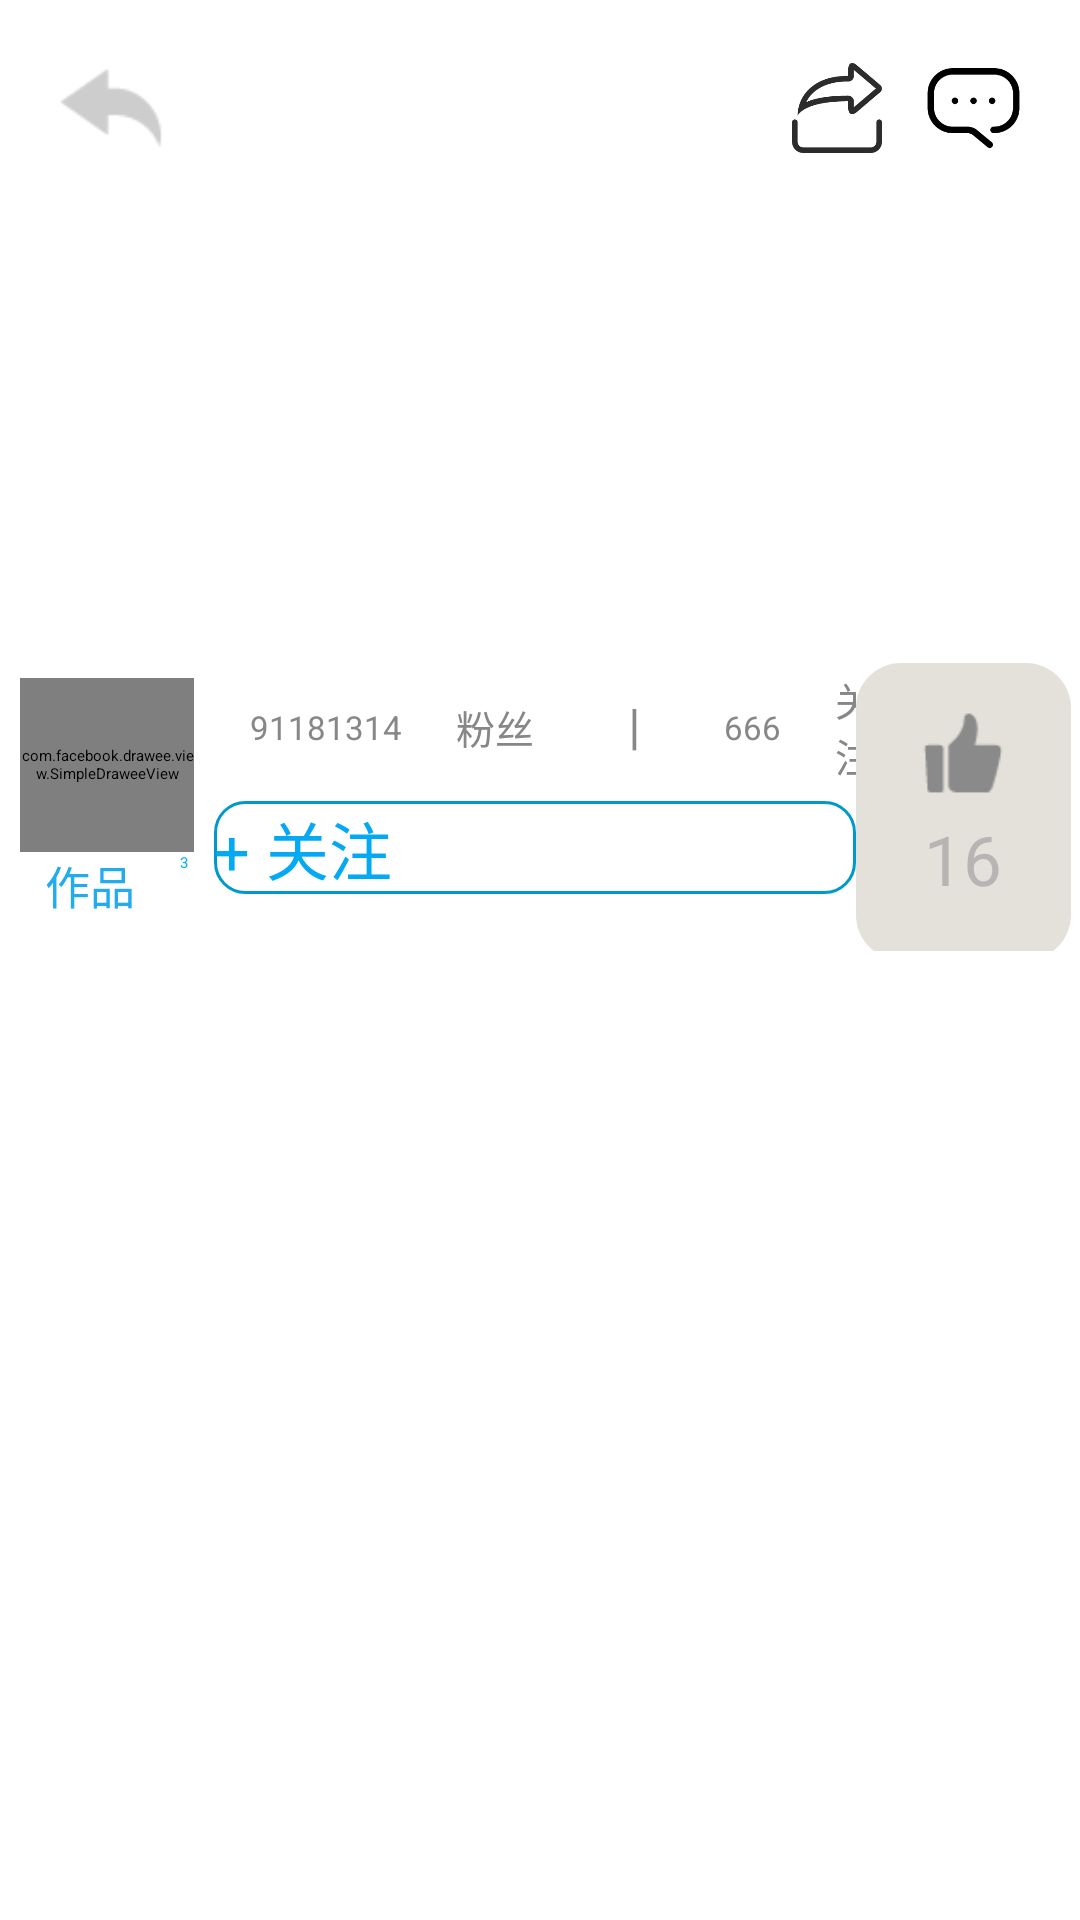

Screen size 1080x1920. Icon name, then its center in pixels as [x,y]:
back: [111,107]
zan: [963,753]
